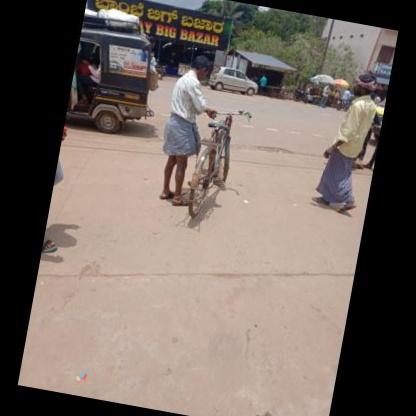Bicycle: (177, 107, 255, 226)
